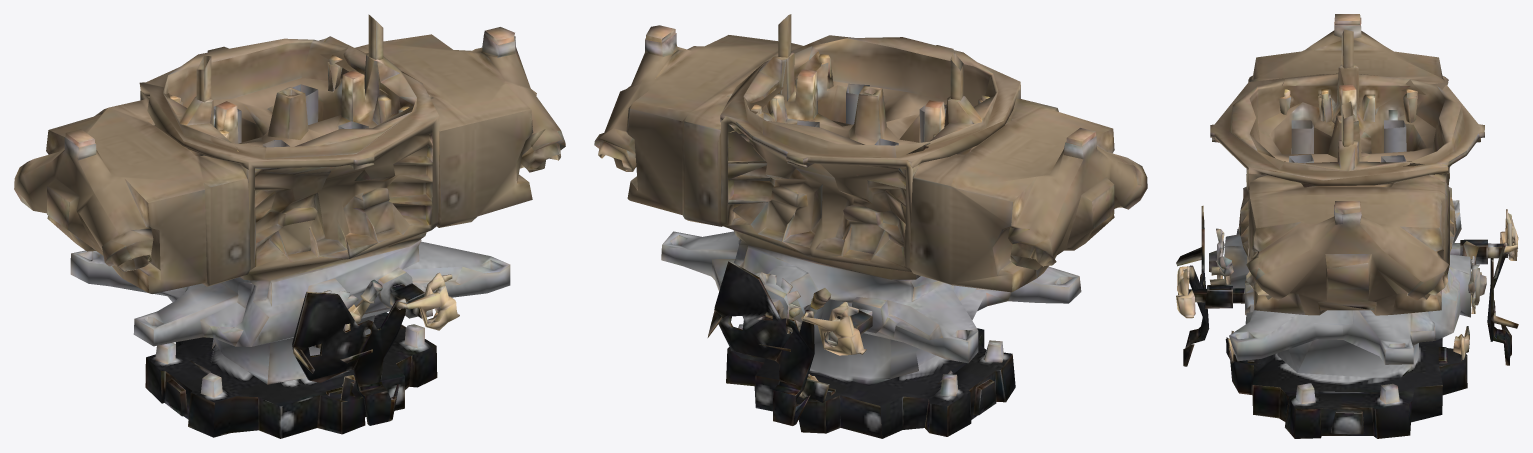
The model's file is carb.glb.
3 renders of one model, left to right at view 1: azimuth 30°, elevation 25°; view 2: azimuth 150°, elevation 25°; view 3: azimuth 270°, elevation 25°, orthographic. The views are drawn at different scales.
Visible parts, largest first — view 1: carb; view 2: carb; view 3: carb.
Boxes of the visible parts, box(x1,y1,x2,y2) form: carb: box(14, 14, 565, 438); carb: box(594, 14, 1147, 438); carb: box(1176, 14, 1518, 438).
Size of the model in its own units: 0.27 by 0.2103 by 0.1873.
1 material, 1 textured.
